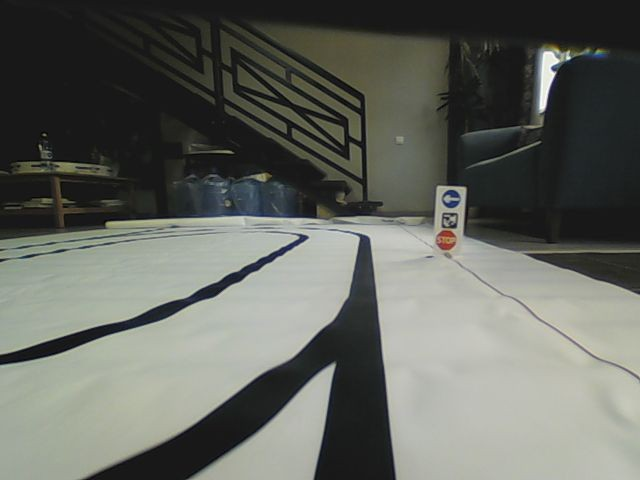Stop: (437, 229, 457, 249)
